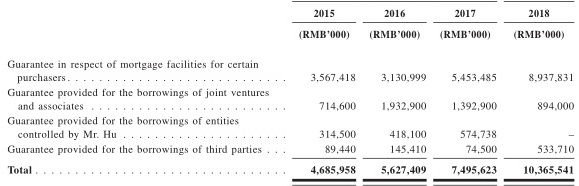column: (7, 1, 287, 186), (512, 1, 575, 186), (438, 1, 498, 185), (369, 1, 427, 186), (298, 1, 355, 186)
row: (1, 88, 579, 99), (1, 116, 579, 127), (1, 130, 579, 141), (1, 8, 579, 18), (1, 29, 579, 39), (1, 60, 579, 70), (1, 74, 579, 84), (1, 102, 579, 112), (1, 165, 579, 175), (1, 145, 579, 154)
